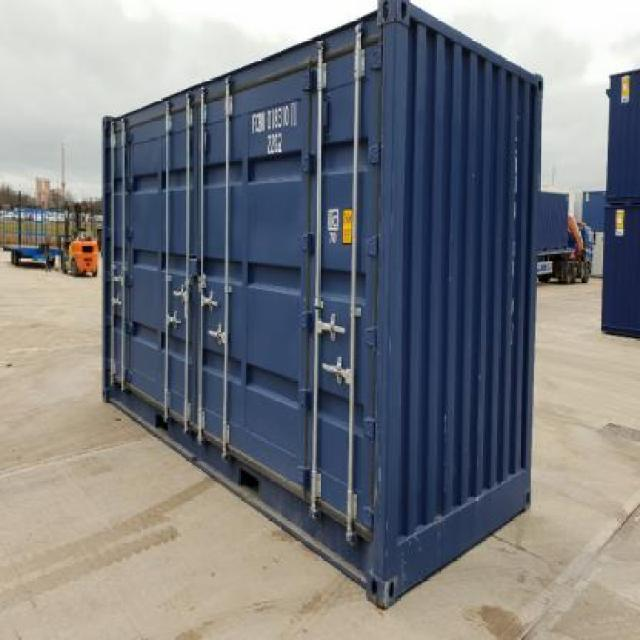ISO: (265, 131, 287, 154)
container_number: (247, 101, 307, 135)
